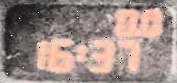-: (134, 29, 140, 35)
0: (114, 8, 135, 35), (139, 9, 160, 35)
1: (35, 40, 45, 68)
3: (88, 40, 112, 71)
6: (46, 38, 71, 71)
7: (116, 39, 138, 70)
X: (74, 44, 85, 61)
